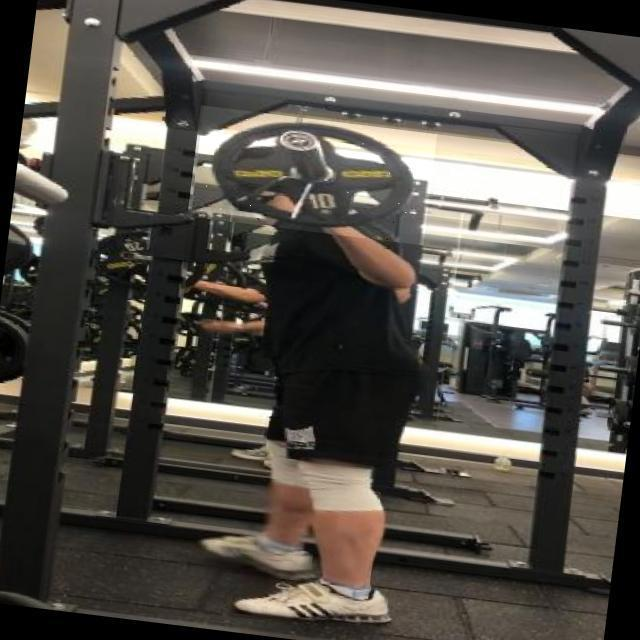barbell: (188, 106, 440, 246)
